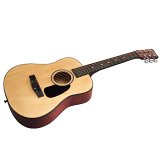guitar: (3, 48, 159, 129)
